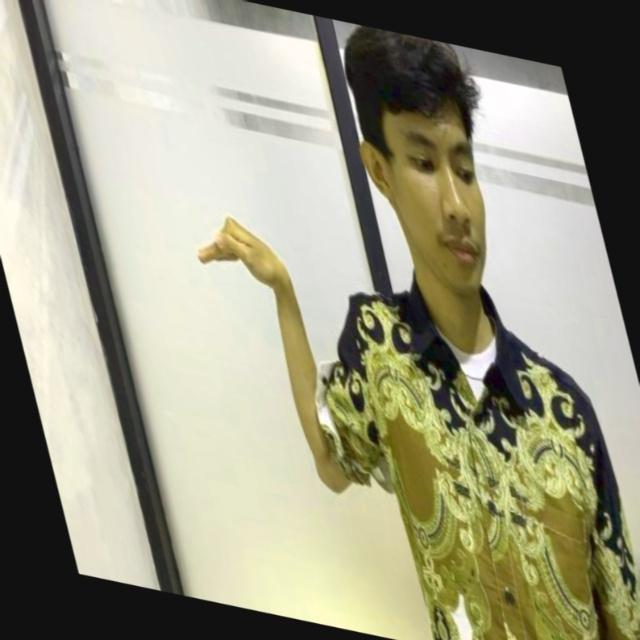Z: (180, 200, 360, 507)
